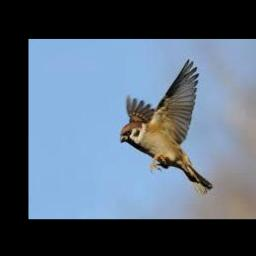Sparrow: (120, 59, 212, 196)
